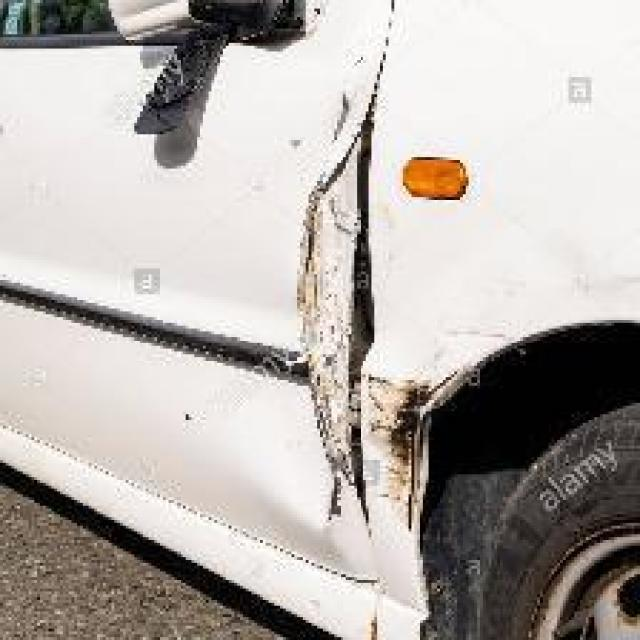damaged: (294, 86, 452, 546)
